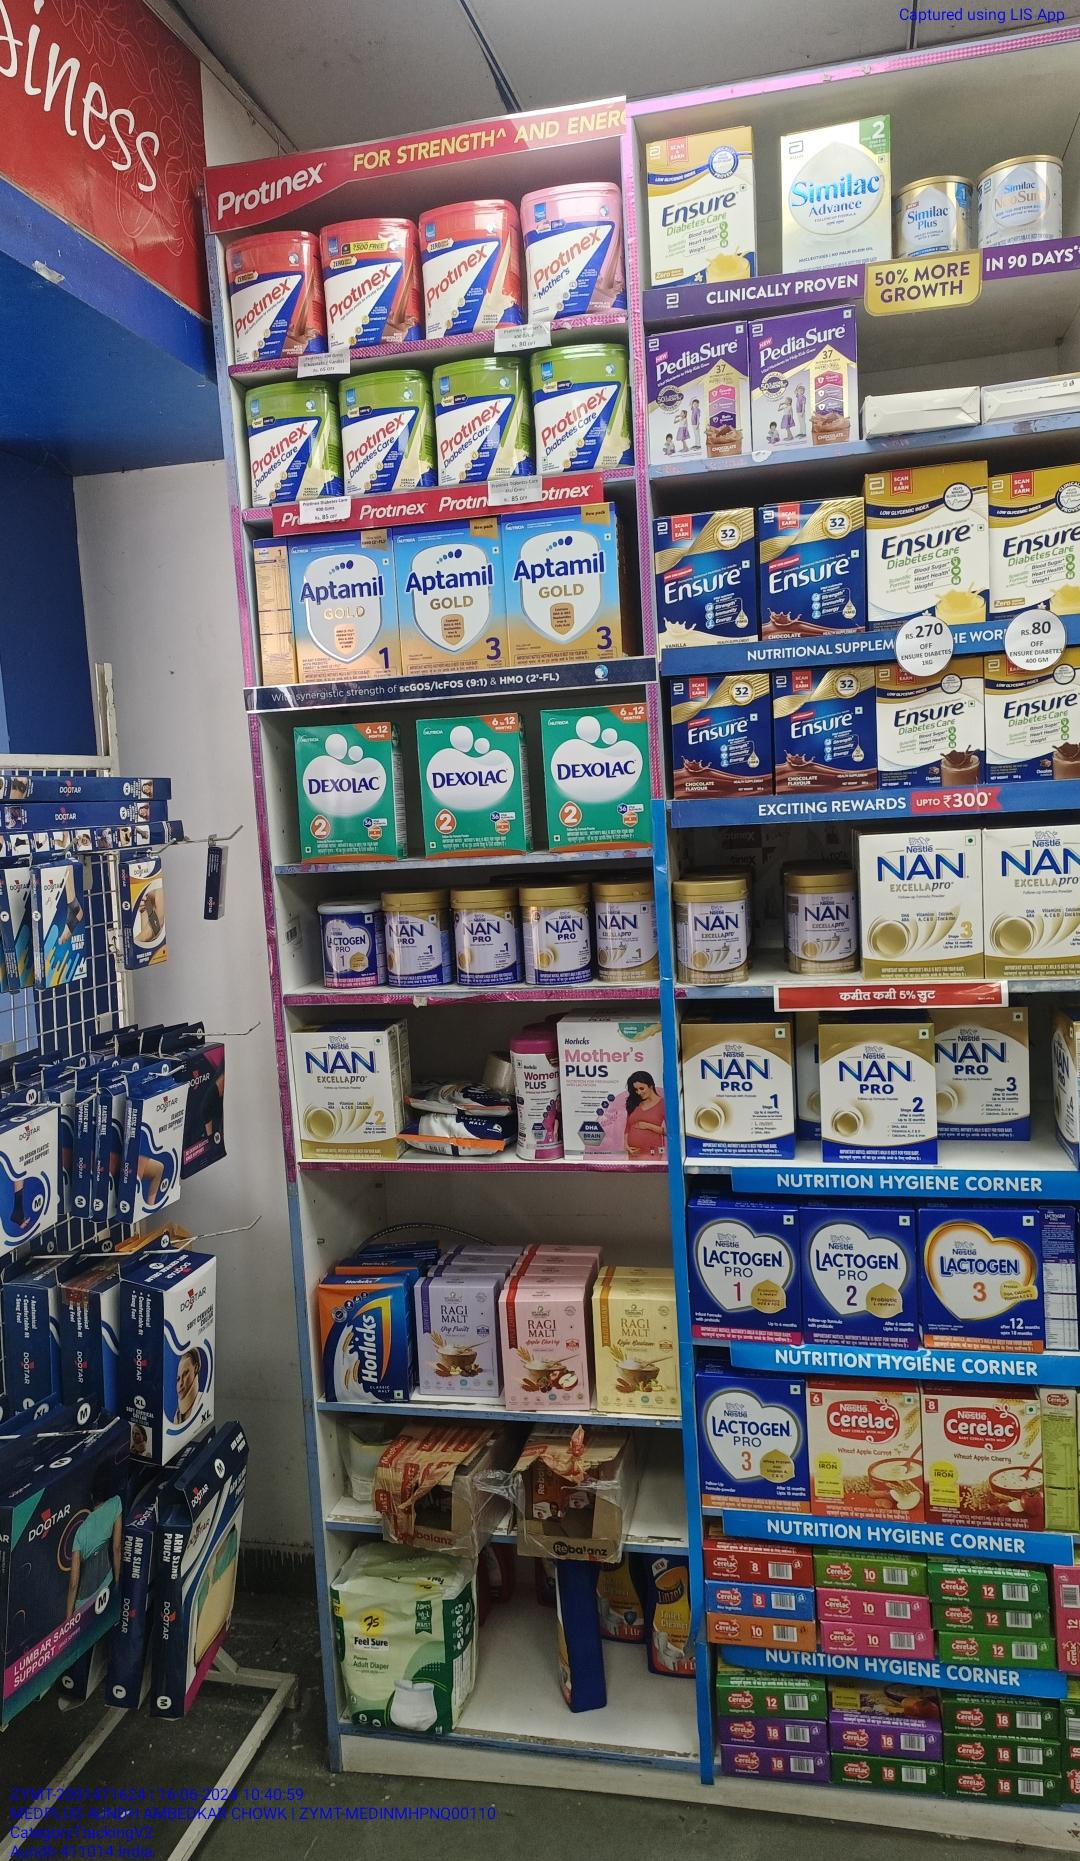ENSURE_VANILLA_400_G_PACK: (654, 504, 756, 652)
HORLICK_CLASSIC_MALT_500_G_PACK: (324, 1278, 409, 1407)
PEDIASURE_CHOCOLATE_500_G_PACK: (651, 325, 746, 467), (751, 312, 851, 432)
PROTINEX_CHOCOLATE_400_G_JAR: (318, 221, 417, 347), (230, 221, 311, 362)
PROTINEX_ORIGINAL_400_G_JAR: (436, 350, 525, 485), (339, 370, 431, 490), (243, 382, 330, 501), (536, 343, 618, 464)
PROTINEX_VANILLA_400_G_JAR: (420, 204, 519, 328)
